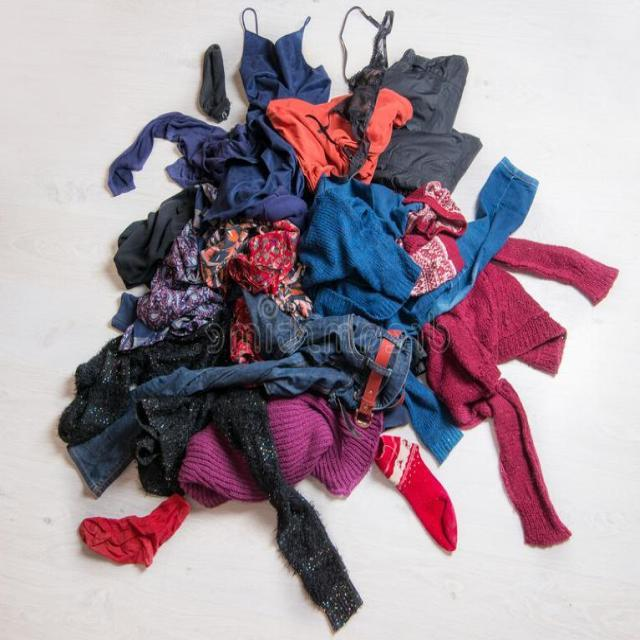clothes: (426, 229, 622, 552), (98, 8, 329, 218), (300, 164, 538, 320), (135, 292, 411, 402), (180, 406, 379, 514), (264, 78, 409, 193), (370, 50, 482, 189)
